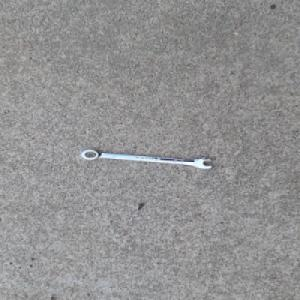Wrench: (79, 147, 216, 169)
